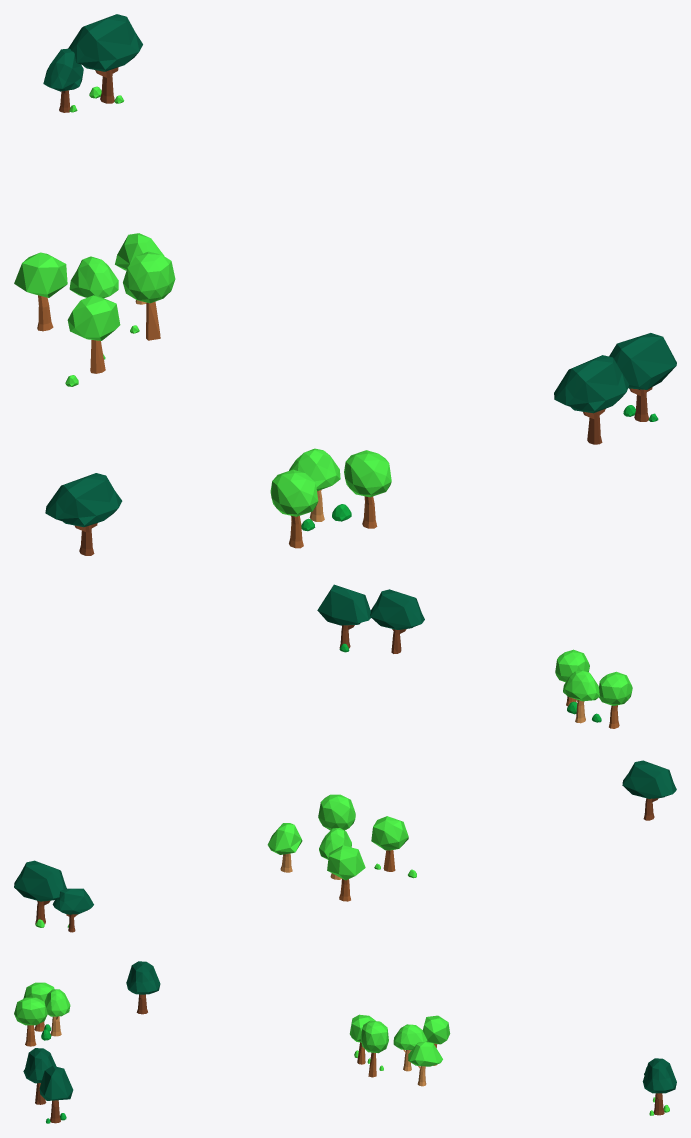
Rendered from Level2WorldZone2.glb.
3 renders of one model, top to bottom at view 1: azimuth 30°, elevation 25°; view 2: azimuth 150°, elevation 25°; view 3: azimuth 270°, elevation 25°, orthographic. The views are drawn at different scales.
Parts seen in each view (by area): view 1: check2_treesnshrubs; view 2: check2_treesnshrubs; view 3: check2_treesnshrubs.
Part boxes in pixels (x1,y1,x2,y2): check2_treesnshrubs: [14, 14, 676, 555]; check2_treesnshrubs: [14, 584, 676, 932]; check2_treesnshrubs: [14, 961, 676, 1123].
Size of the model in its own units: 40.42 by 10.21 by 65.88.
Materials: 1 (1 with a texture image).
